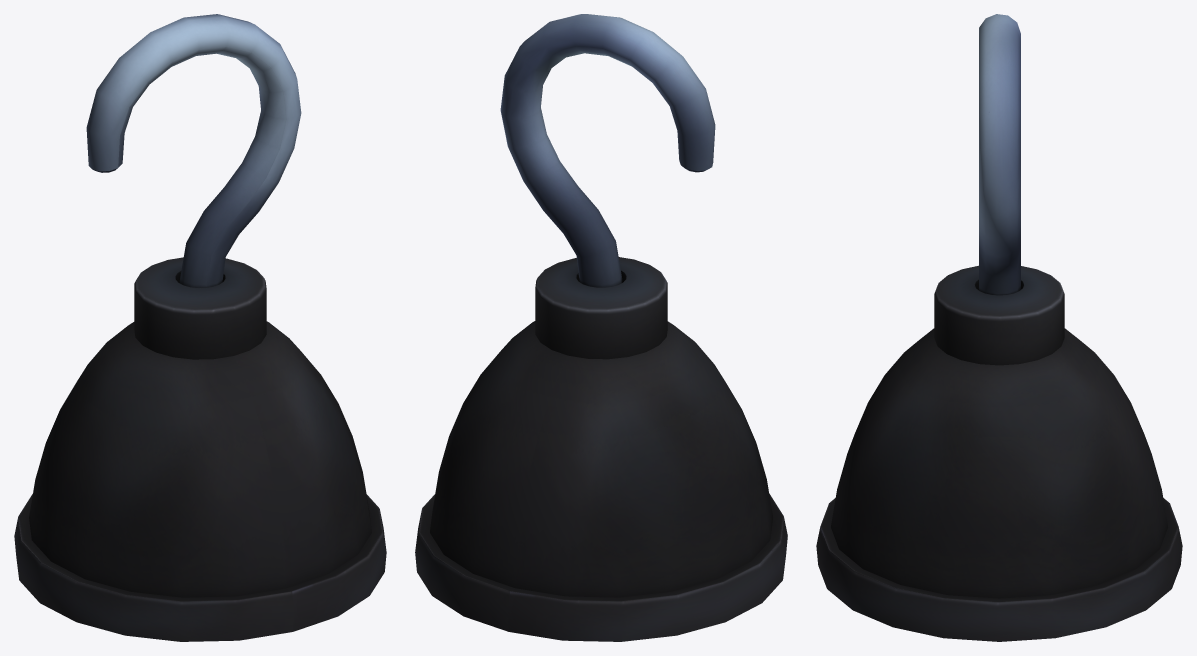
Rendered from PirateHook.fbx.
3 views of the same model, side by side, from view 1: azimuth 30°, elevation 25°; view 2: azimuth 150°, elevation 25°; view 3: azimuth 270°, elevation 25° (orthographic). The views are drawn at different scales.
Parts seen in each view (by area): view 1: PirateHook; view 2: PirateHook; view 3: PirateHook.
Part boxes in pixels (bbox=[...]): PirateHook: bbox=[14, 14, 386, 641]; PirateHook: bbox=[415, 14, 787, 641]; PirateHook: bbox=[816, 14, 1182, 641].
Size of the model in its own units: 0.1044 by 0.1687 by 0.1044.
